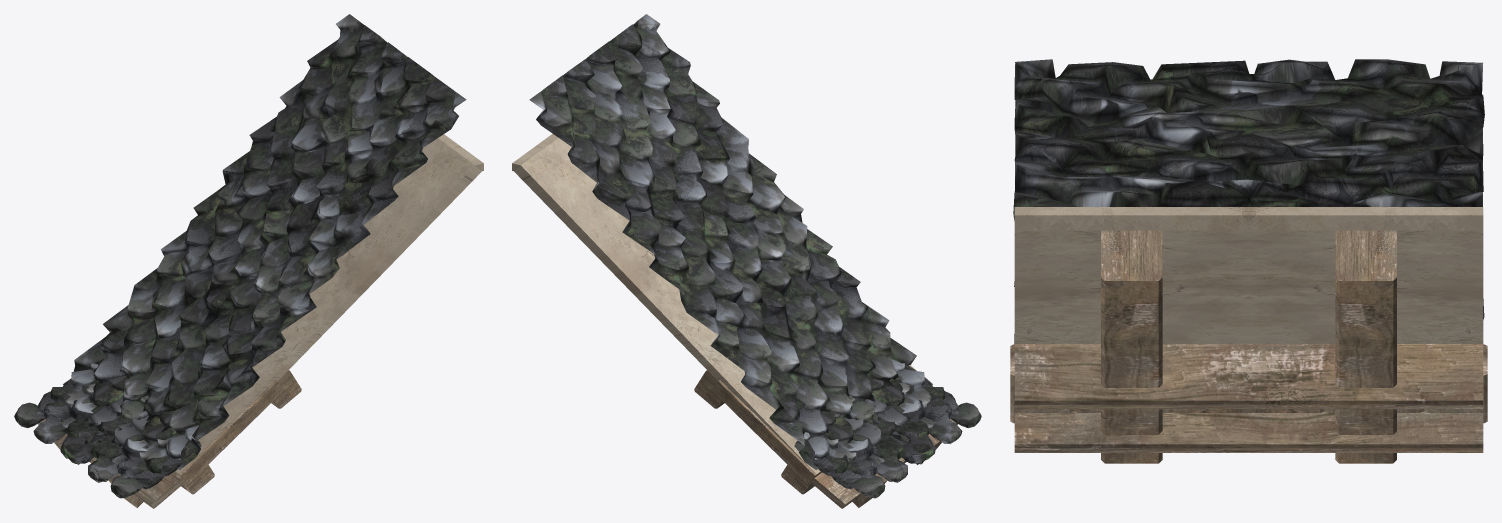
File: SM_Roof_A_03.fbx
The picture shows the model from 3 angles, left to right: view 1: azimuth 30°, elevation 25°; view 2: azimuth 150°, elevation 25°; view 3: azimuth 270°, elevation 25°; orthographic projection. The views are drawn at different scales.
Visible parts, largest first — view 1: SM_Roof_A_03_LOD0; view 2: SM_Roof_A_03_LOD0; view 3: SM_Roof_A_03_LOD0.
Part boxes in pixels (x1,y1,x2,y2): SM_Roof_A_03_LOD0: [14, 14, 483, 508]; SM_Roof_A_03_LOD0: [512, 14, 981, 508]; SM_Roof_A_03_LOD0: [1010, 59, 1487, 463].
Bounding box in the file's own units: 368 × 204 × 331.
